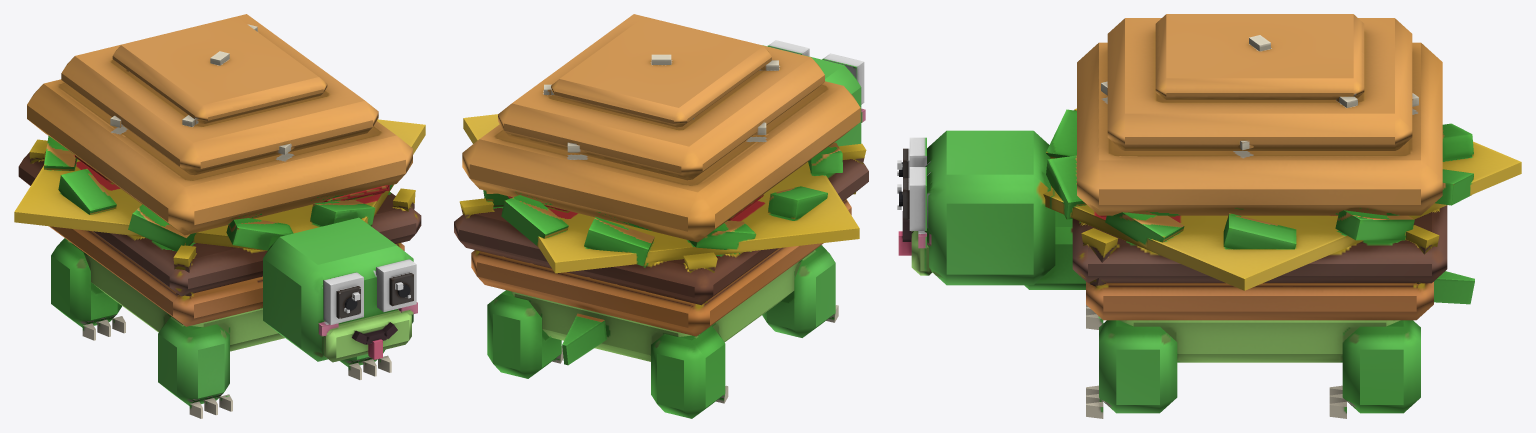
Rendered from TortueBurger_Rig.fbx.
3 renders of one model, left to right at view 1: azimuth 30°, elevation 25°; view 2: azimuth 150°, elevation 25°; view 3: azimuth 270°, elevation 25°, orthographic. The views are drawn at different scales.
Visible parts, largest first — view 1: Body, Head, LegFR, LegBR, LegFL; view 2: Body, LegBR, LegBL, LegFR, Head, Tail; view 3: Body, Head, LegBL, LegFL, Tail.
Boxes of the visible parts, x1,y1,x2,y2 form: Body: (14, 14, 425, 351); Head: (263, 217, 417, 362); LegFR: (158, 316, 232, 418); LegBR: (51, 238, 125, 340); LegFL: (340, 349, 391, 379); Body: (454, 14, 868, 361); LegBR: (651, 326, 728, 418); LegBL: (487, 290, 563, 378); LegFR: (762, 245, 838, 337); Head: (763, 40, 865, 146); Tail: (562, 313, 606, 365); Body: (1043, 14, 1521, 362); Head: (897, 130, 1085, 289); LegBL: (1329, 320, 1420, 418); LegFL: (1086, 320, 1177, 418); Tail: (1434, 271, 1474, 304).
Size of the model in its own units: 8.8 by 6 by 10.49.
Materials: 1 (1 with a texture image).
